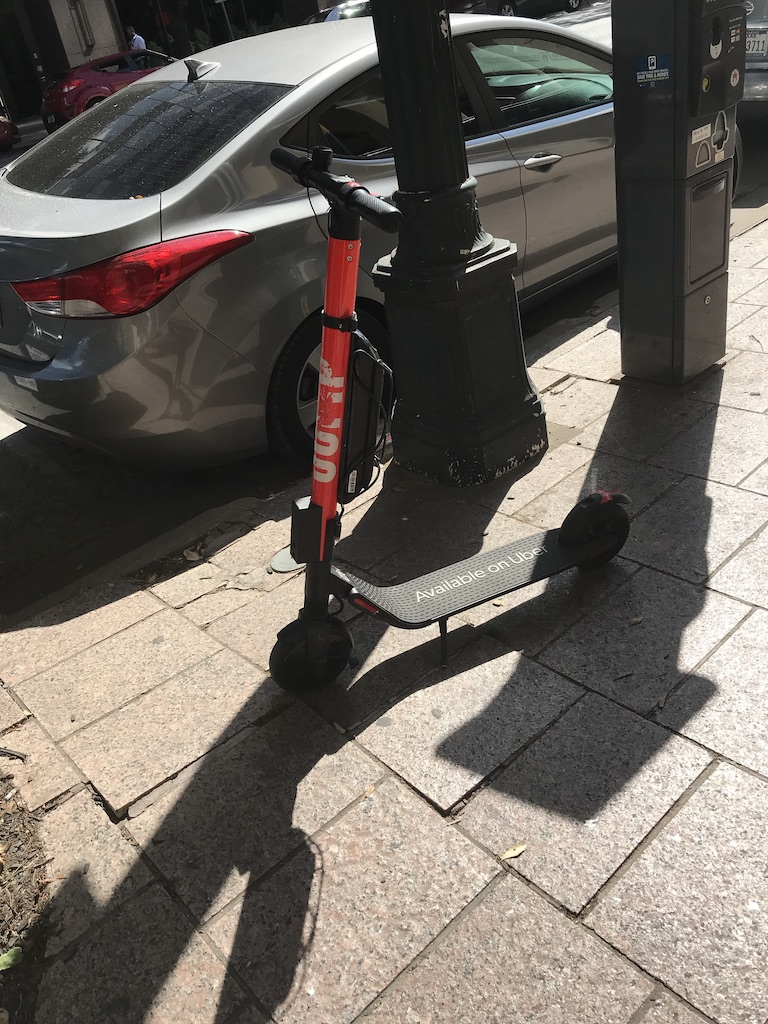scooter: (267, 149, 631, 693)
